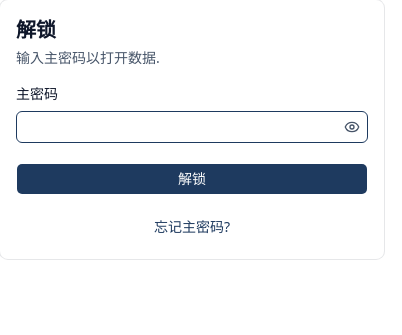
Test: UnlockScreen 其它失败与处理中 › 意外失败时在顶部提示条显示, 输入框不标红
In the password field labelled "主密码": (178, 127) x1=17 y1=111 x2=340 y2=143, type "anything"
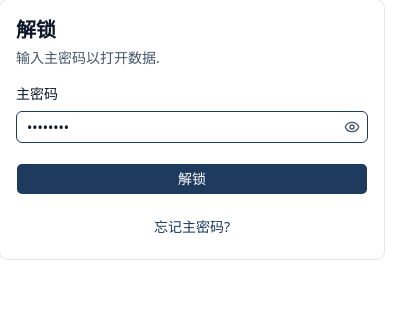
Click the button "解锁": (192, 179) x1=16 y1=163 x2=368 y2=195
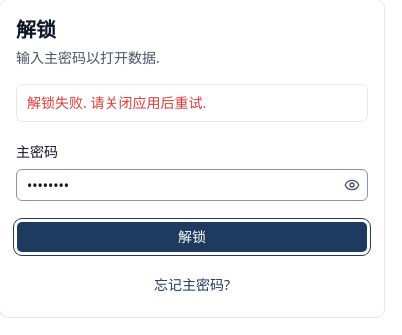
Result: the message reads "解锁失败. 请关闭应用后重试." at x1=27 y1=93 x2=206 y2=112
